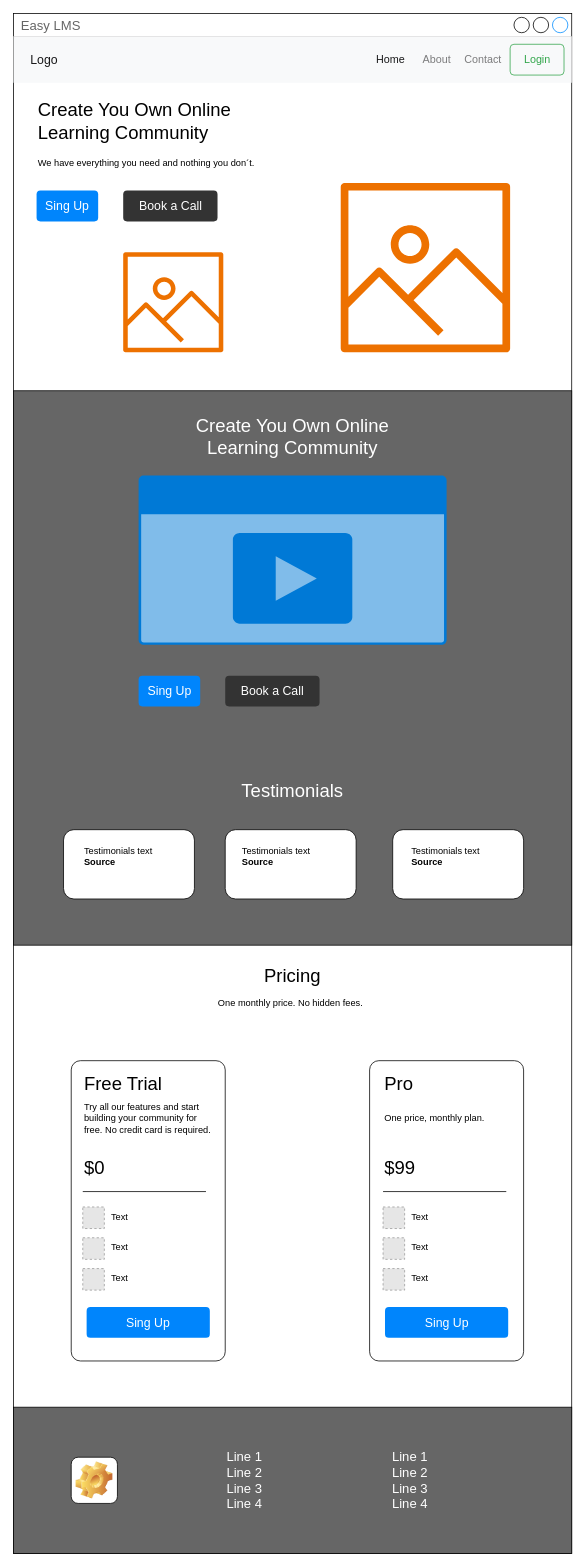
The diagram is 585 pixels wide and 1567 high, and some of its shapes have lost their labels. Grey dashed boxes stand in for pictures. Each missing label, with the box of its shape:
Icon: (70, 1456, 117, 1503)
Video: (138, 475, 446, 644)
